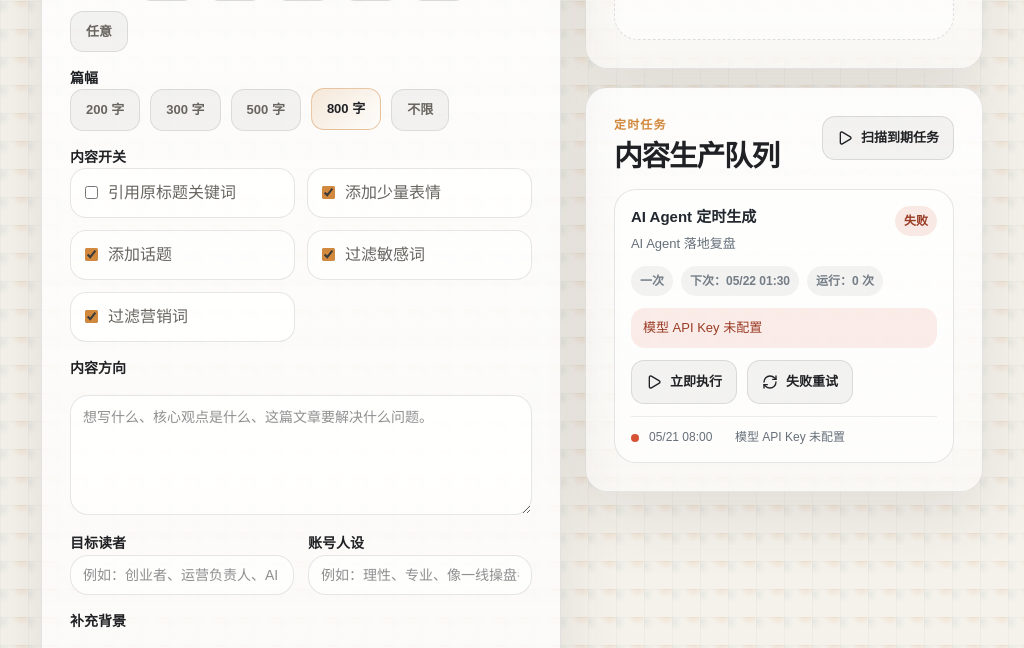
Test case: GenerateStudio › renders failed task logs and lets users retry
The image size is (1024, 648).
(page scrolled)
Expected: the text "失败" is shown, [895,206,937,236]
Expected: the 1st text "模型 API Key 未配置" is shown, [631,308,937,348]
Step 1. Click the button "失败重试" → x=800, y=382, box [747,360,853,404]
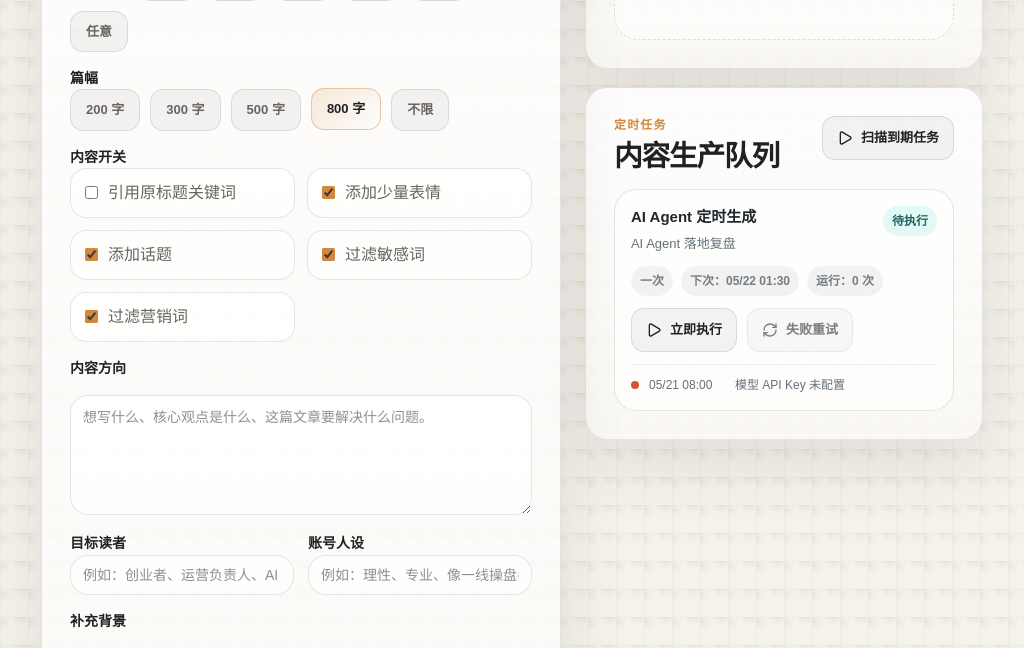
Expected: the text "待执行" is shown, [883,206,937,236]
